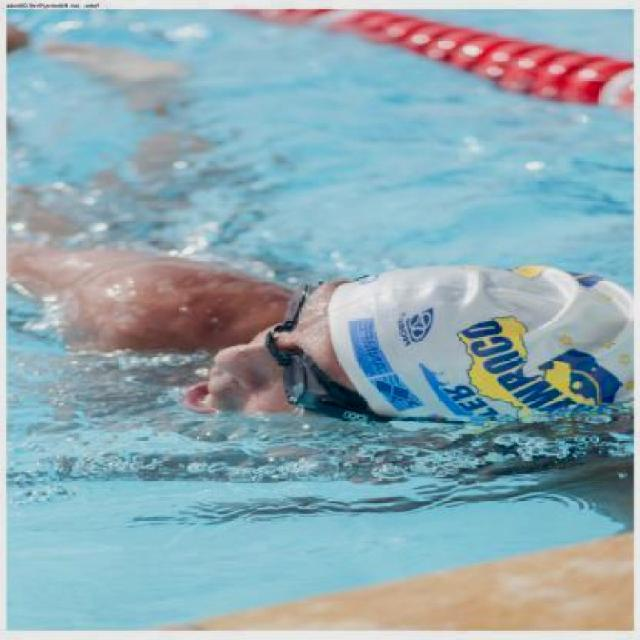glasses: (266, 280, 394, 422)
